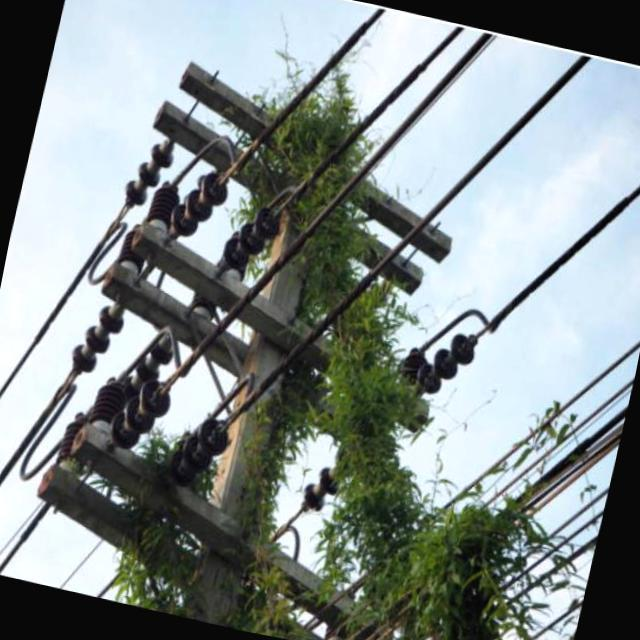critical vegetation: (119, 78, 423, 640), (104, 278, 521, 640), (126, 40, 516, 414)
